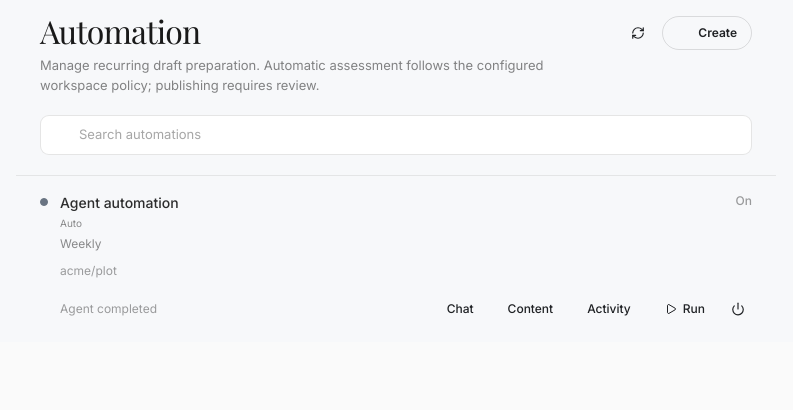
Test: RoutinesWorkspace › loads safe agent activity in sequence order
Click the button with aria-label "View agent activity for Agent automation" at (609, 309), box [572,292,646,326]
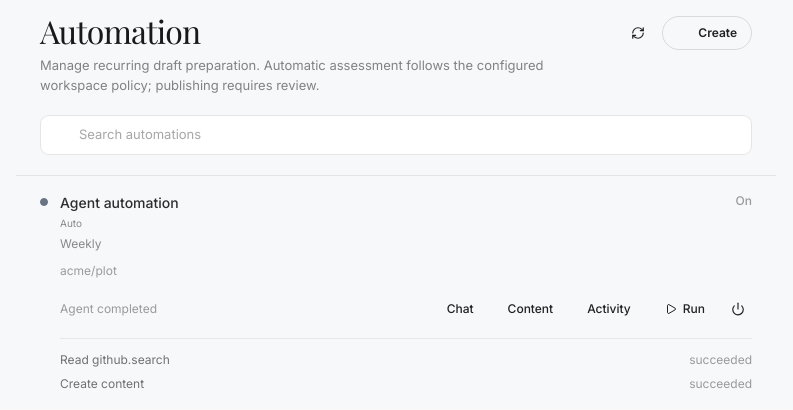
Result: the number of list items is 2 at [60,351,752,369]; [60,375,752,393]
Result: the list item "Read github.search succeeded" is shown at [60,351,752,369]
Result: the list item "Create content succeeded" is shown at [60,375,752,393]
